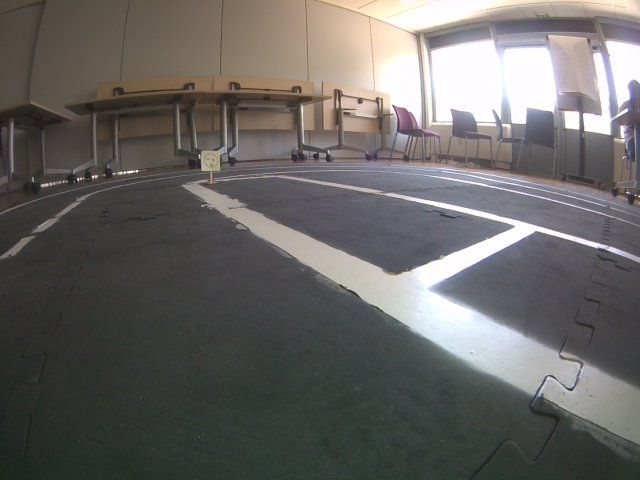Smiley: (199, 149, 221, 172)
